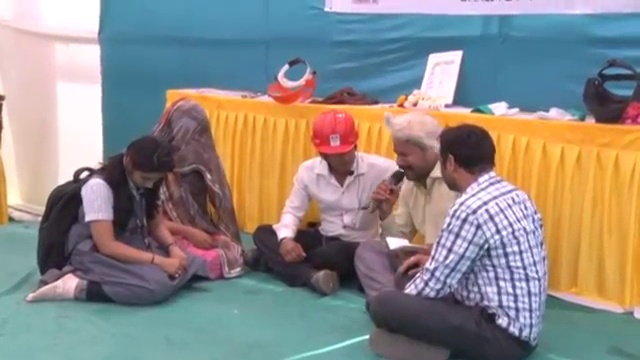helmet: (306, 109, 361, 158)
helmet_off: (439, 123, 502, 200), (389, 113, 443, 191), (112, 134, 178, 197), (158, 99, 211, 160)
helmet_on: (306, 107, 360, 173)
person: (366, 121, 549, 359), (27, 135, 197, 306), (248, 105, 396, 293), (138, 86, 249, 276), (355, 110, 460, 295)
